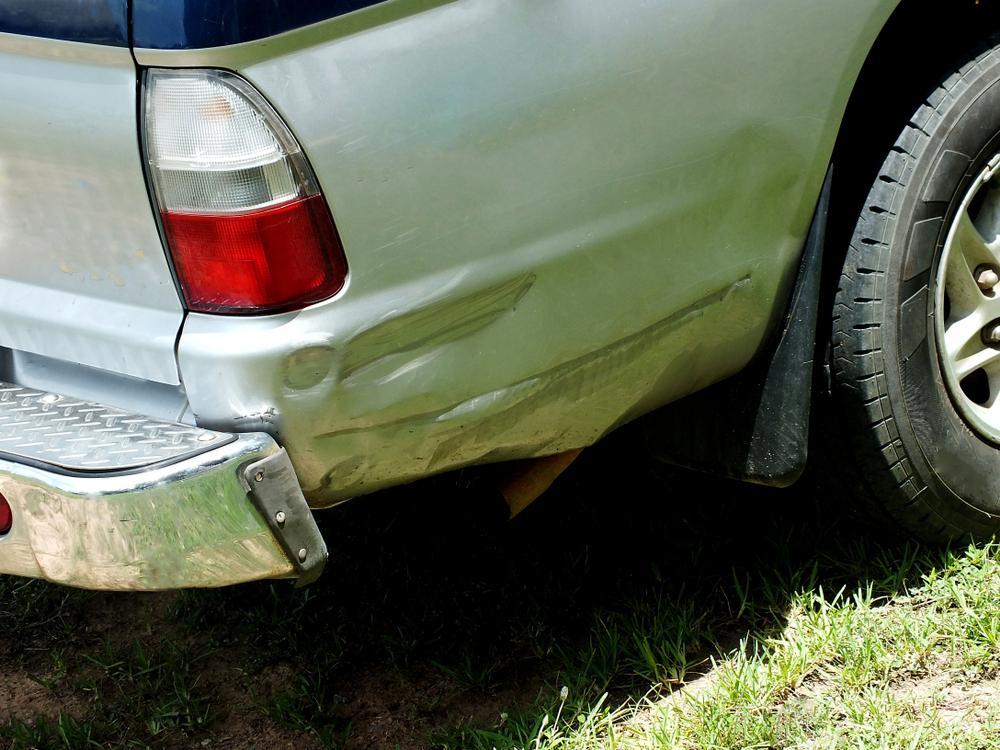dent: (271, 263, 539, 493), (710, 120, 811, 284)
